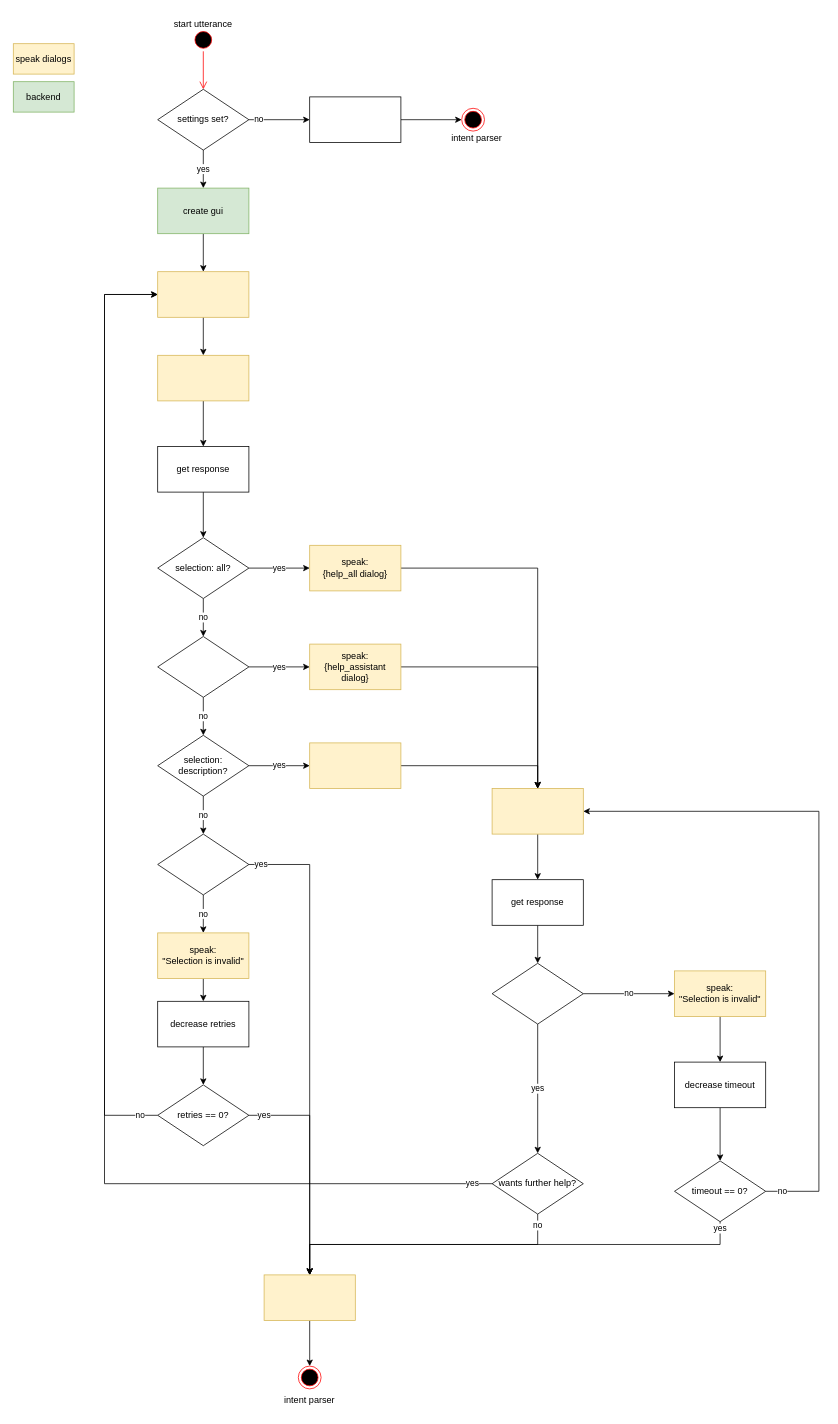
The diagram is 838 pixels wide and 1424 high, and some of its shapes have lost their labels. The shapes that lost their labels are listed below. From the top down, each one's centre as x and y in pixels, then its label:
(x=355, y=119): call changeSettings intent
(x=203, y=294): speak: "Choose one of the following options"
(x=203, y=378): speak: {listing options}
(x=203, y=666): selection: assistant?
(x=355, y=765): speak: {help_description dialog}
(x=537, y=811): speak: "Something else you need help with?"
(x=203, y=864): selection: end?
(x=537, y=993): response valid?
(x=309, y=1297): speak: "Goodbye"
